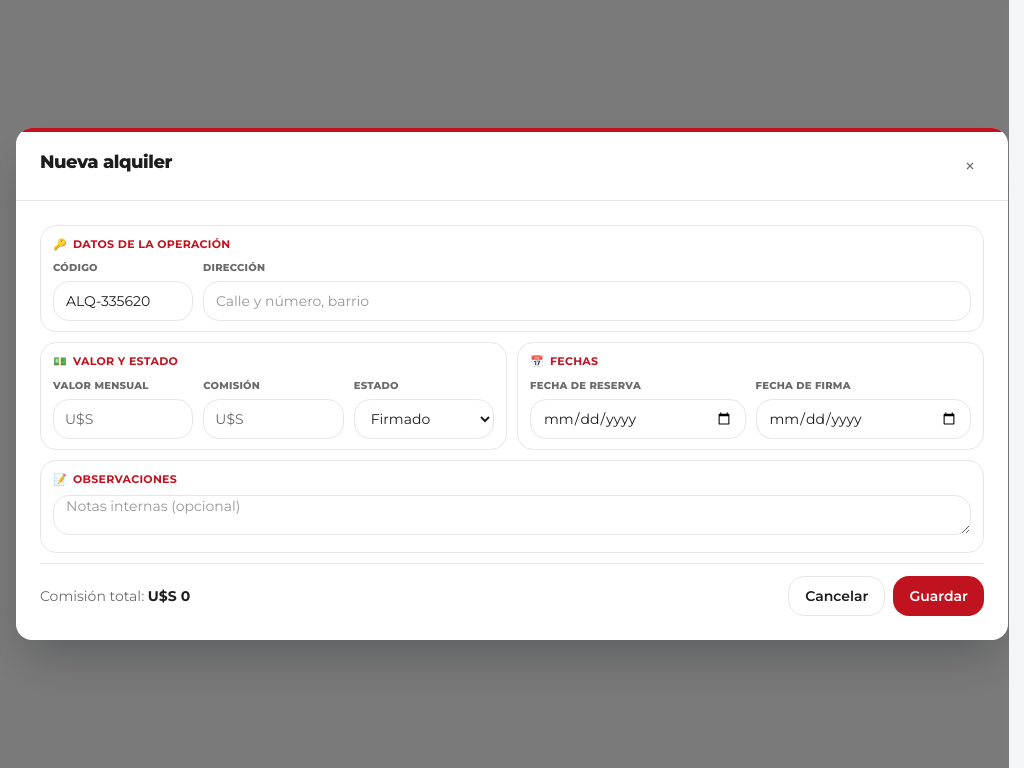
Scenario: OperacionFormModal · importes › lo que no es un importe frena el guardado con un aviso, en vez de guardar 0
The image size is (1024, 768).
In the field with placeholder "Calle y número, barrio": (587, 301) [203,281,971,321], type "Calle Falsa 123"
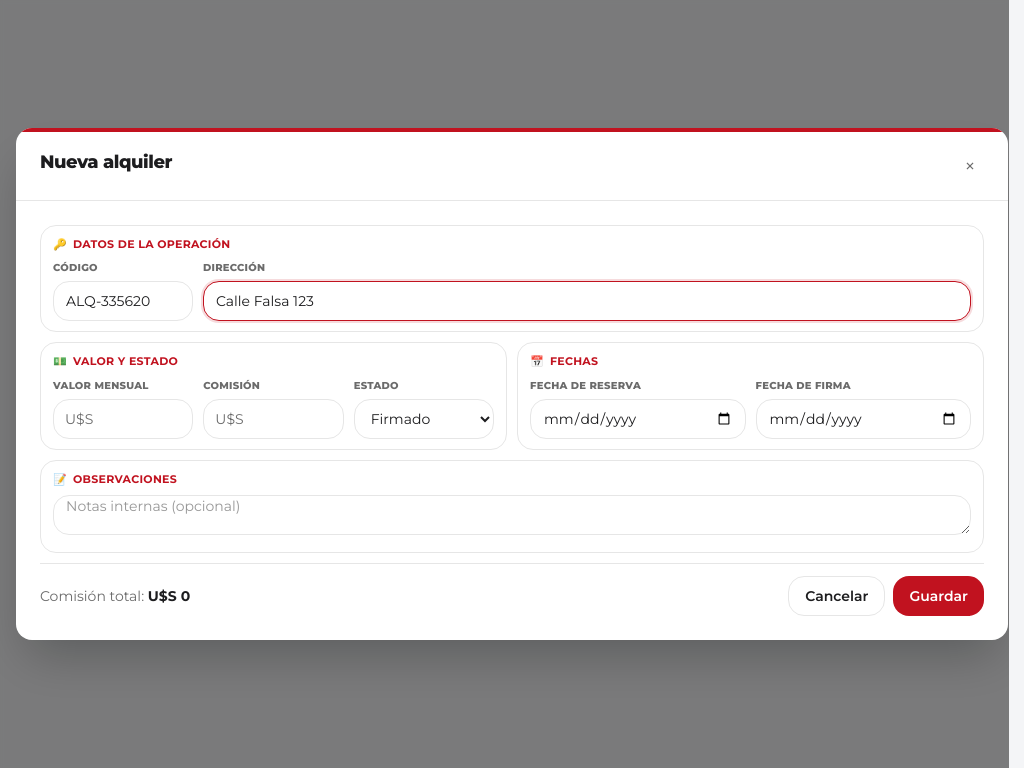
In the field labelled "Valor mensual": (123, 419) [53,399,193,439], type "mil"
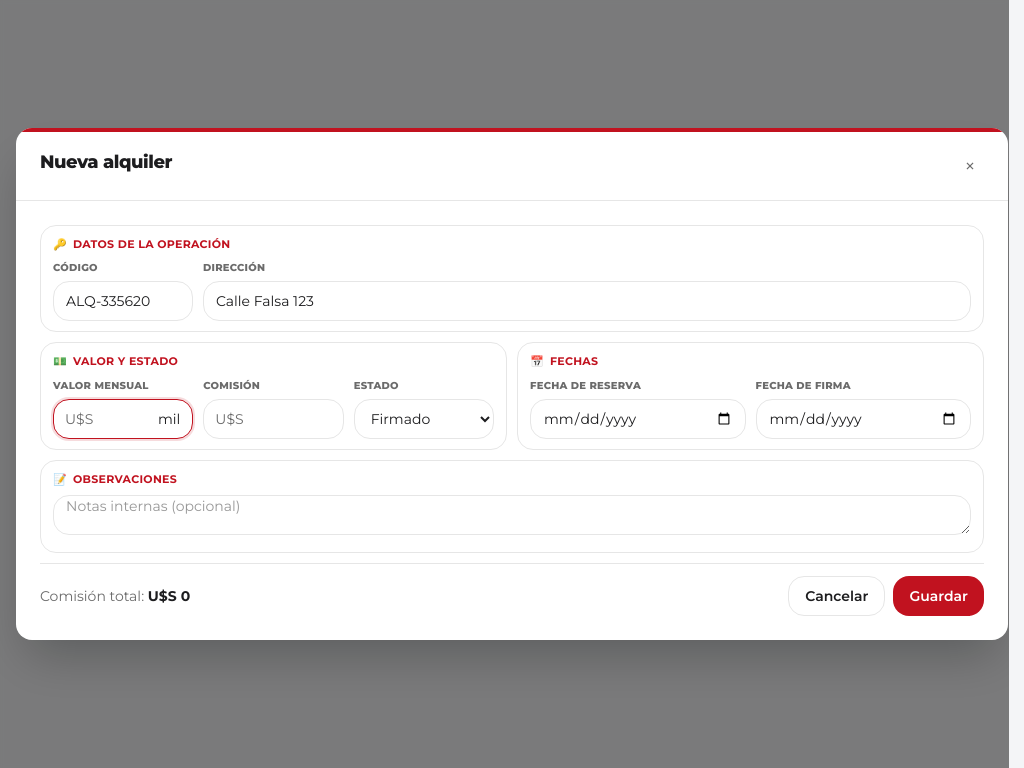
Click the button "Guardar": (939, 596) [893,576,984,616]
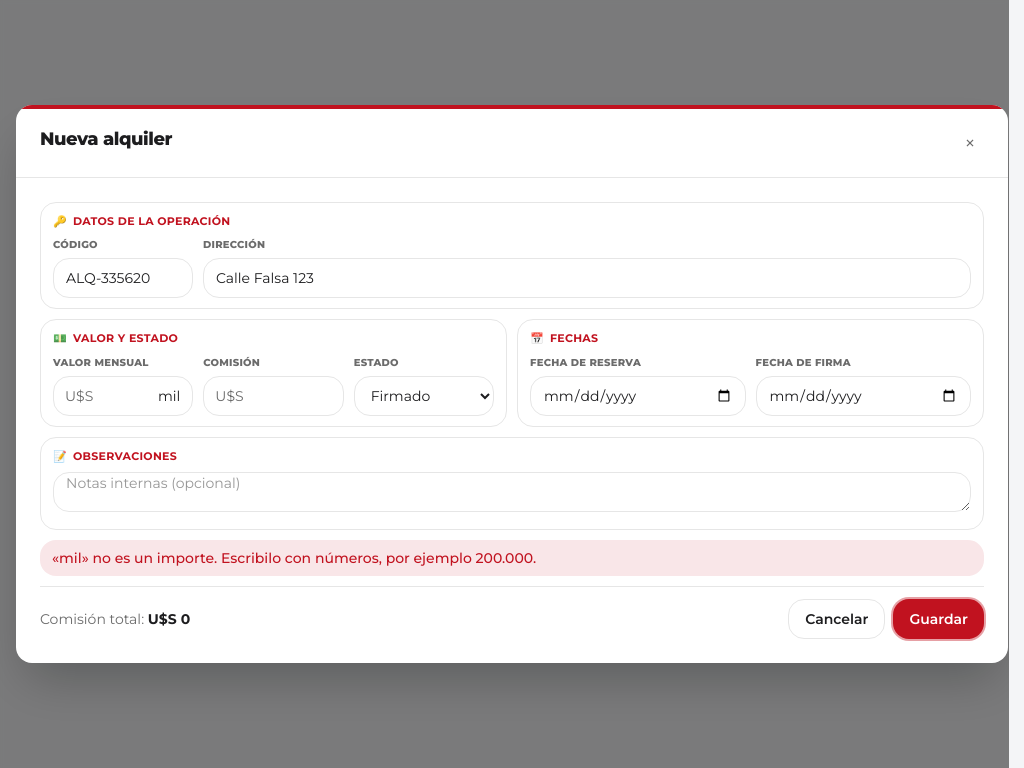
Expected: the message shows "«mil» no es un importe", [52,549,536,567]
